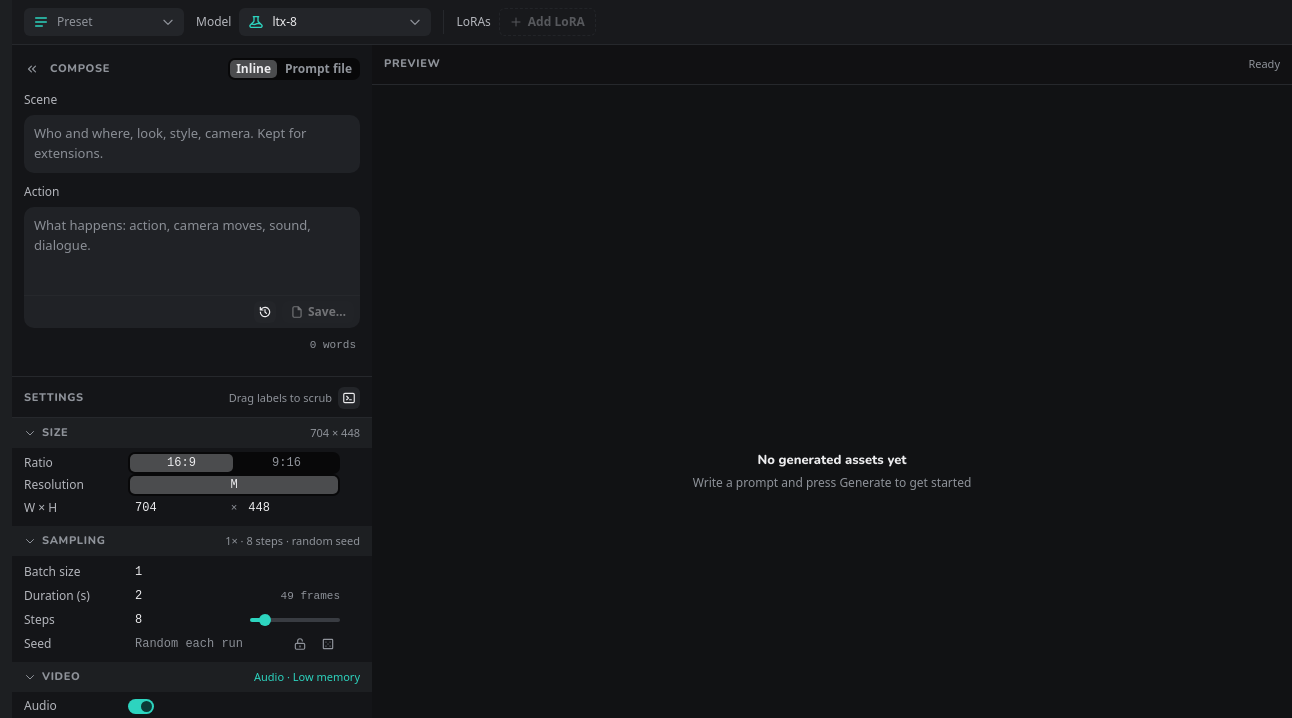
Test: WorkspacePage asset actions and settings › shows video preset dimensions for the chosen ratio and size
This screenshot has width=1292, height=718.
Step 1. Click the button "9:16" → coordinates (286, 463), box left=235, top=454, right=338, bottom=472
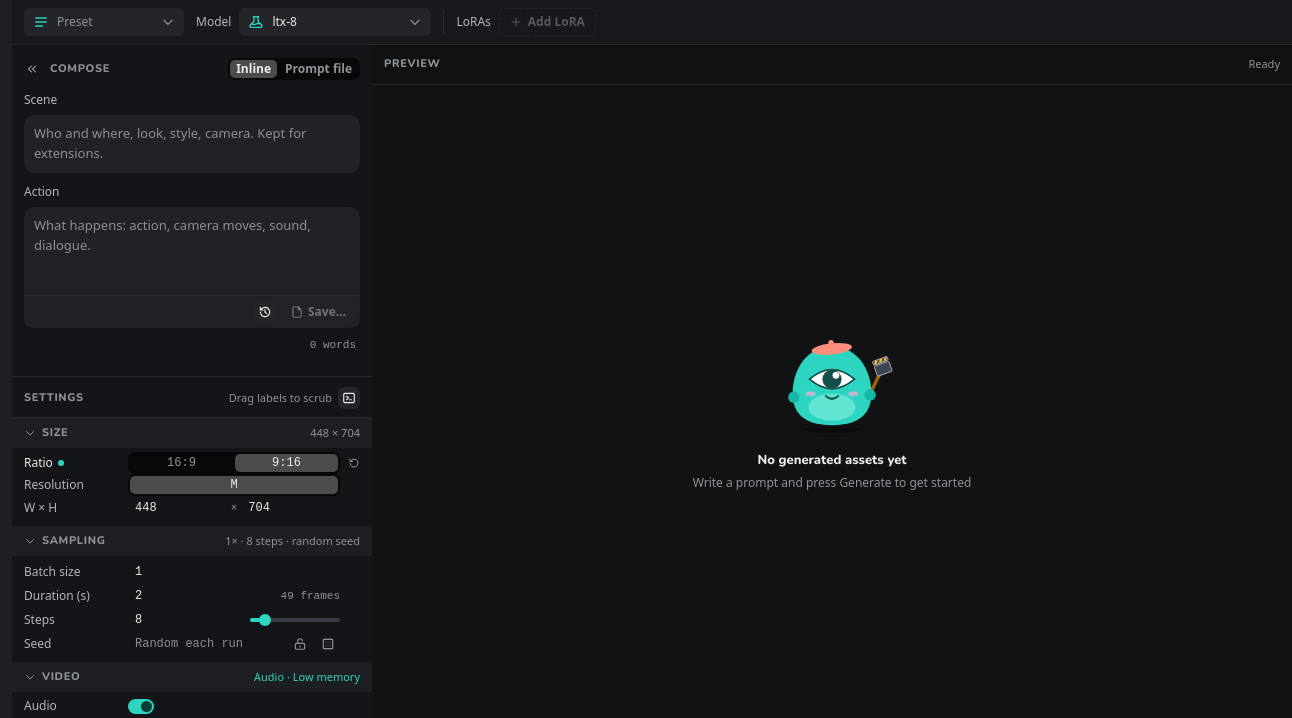
Result: the number field with id "ws-width" holds "448" at left=128, top=496, right=227, bottom=520
Result: the number field with id "ws-height" holds "704" at left=241, top=496, right=340, bottom=520
